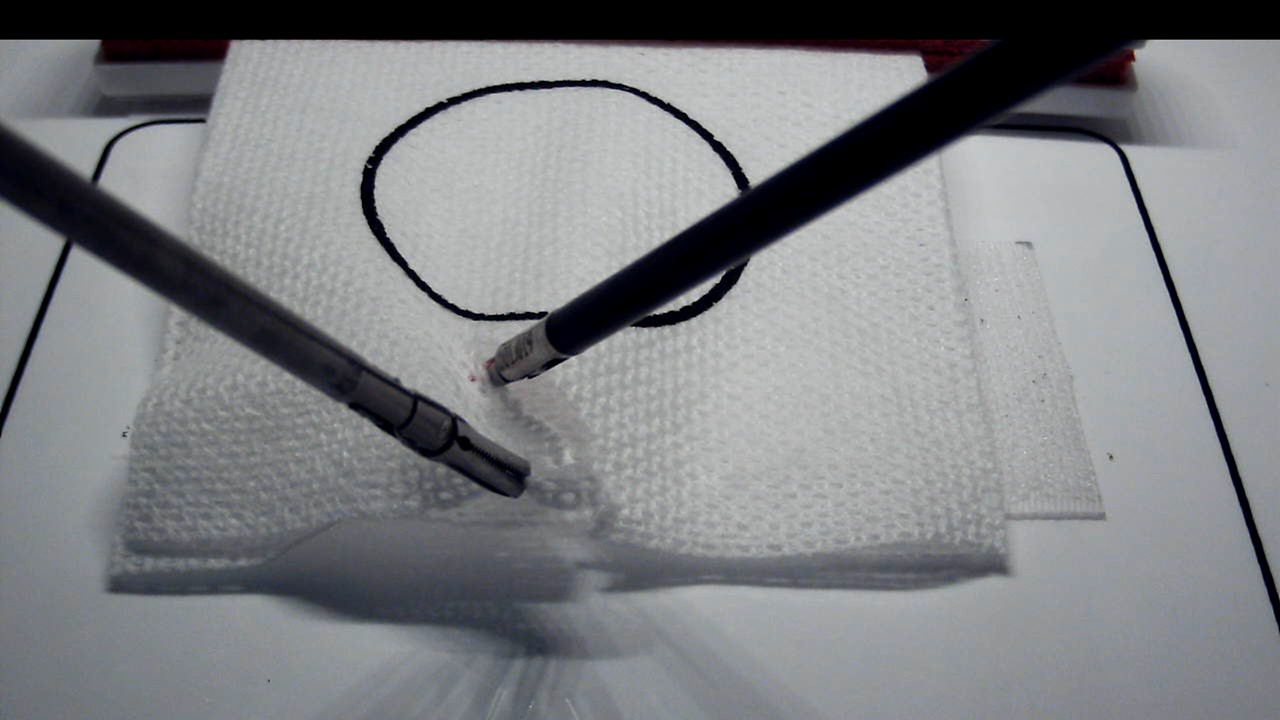Circle: (358, 78, 757, 330)
Grasper: (432, 412, 532, 499)
Scissor: (482, 351, 517, 386)
